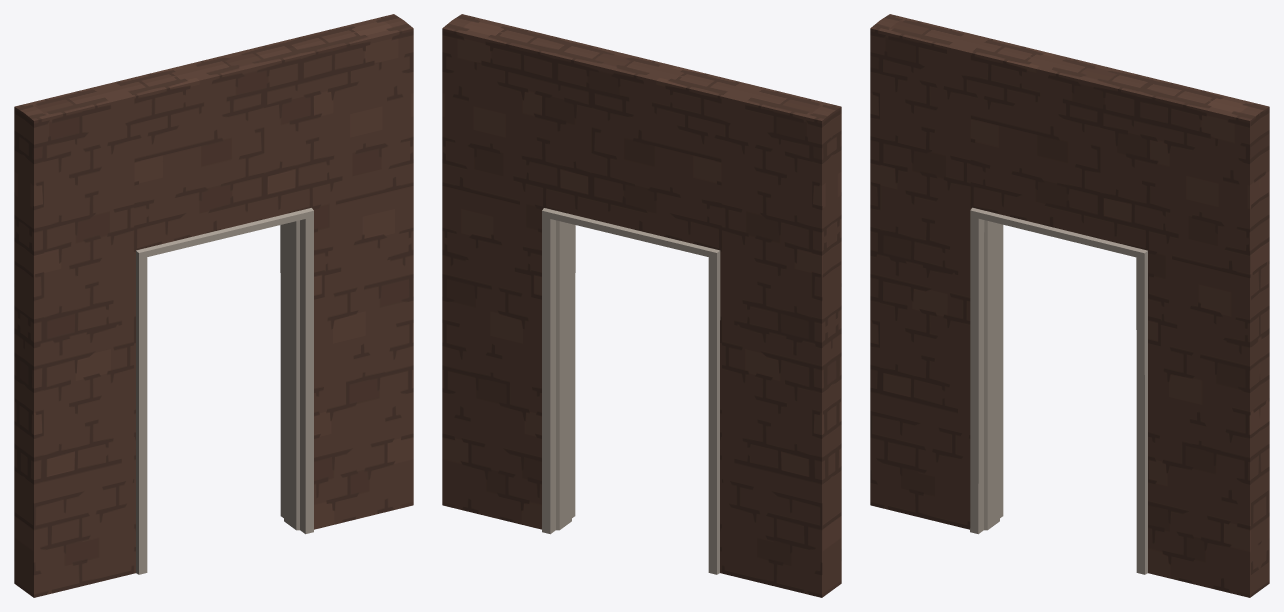
The model's file is SM_Bld_Base_Wall_Door_01.obj.
The picture shows the model from 3 angles, left to right: view 1: azimuth 30°, elevation 25°; view 2: azimuth 150°, elevation 25°; view 3: azimuth 330°, elevation 25°; orthographic projection.
Visible parts, largest first — view 1: SM_Bld_Base_Wall_Door_01_2, SM_Bld_Base_Wall_Door_01_1, SM_Bld_Base_Wall_Door_01_0; view 2: SM_Bld_Base_Wall_Door_01_0, SM_Bld_Base_Wall_Door_01_1, SM_Bld_Base_Wall_Door_01_2; view 3: SM_Bld_Base_Wall_Door_01_2, SM_Bld_Base_Wall_Door_01_1, SM_Bld_Base_Wall_Door_01_0.
Boxes of the visible parts, <box> form: SM_Bld_Base_Wall_Door_01_2: <box>24,20,413,597</box>; SM_Bld_Base_Wall_Door_01_1: <box>136,208,313,574</box>; SM_Bld_Base_Wall_Door_01_0: <box>14,14,403,590</box>; SM_Bld_Base_Wall_Door_01_0: <box>442,20,831,597</box>; SM_Bld_Base_Wall_Door_01_1: <box>542,208,720,574</box>; SM_Bld_Base_Wall_Door_01_2: <box>452,14,841,590</box>; SM_Bld_Base_Wall_Door_01_2: <box>870,20,1259,597</box>; SM_Bld_Base_Wall_Door_01_1: <box>970,207,1147,574</box>; SM_Bld_Base_Wall_Door_01_0: <box>880,14,1269,590</box>.
Bounding box in the file's own units: 2.5 × 3.01 × 0.288.
3 materials, 3 textured.
